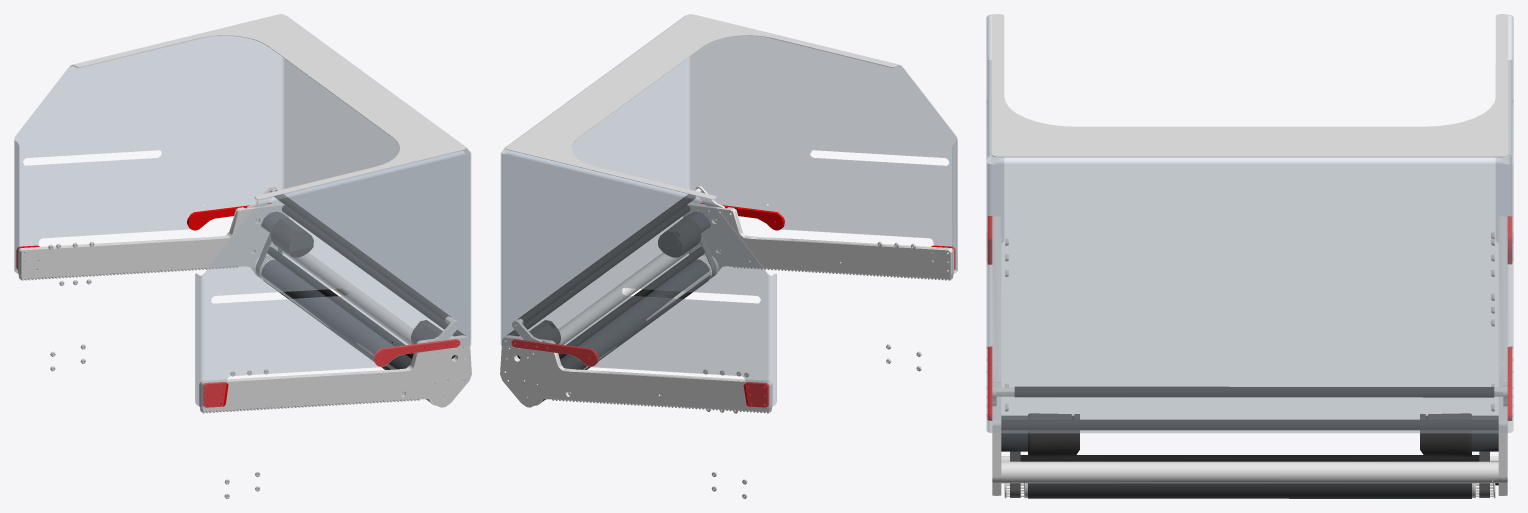
Rendered from 1114-slide.glb.
3 views of the same model, side by side, from view 1: azimuth 30°, elevation 25°; view 2: azimuth 150°, elevation 25°; view 3: azimuth 270°, elevation 25° (orthographic). The views are drawn at different scales.
Parts seen in each view (by area): view 1: S26-IN-P322, S26-IN-P317, S26-IN-P307, Part 50, S26-IN-P323, 12t Aluminum Pulley (HTD 5mm, 15mm Wide, 8mm SplineXS Bore); view 2: S26-IN-P322, S26-IN-P317, S26-IN-P307, Part 50, S26-IN-P323, 12t Aluminum Pulley (HTD 5mm, 15mm Wide, 8mm SplineXS Bore); view 3: S26-IN-P322, S26-IN-P317, S26-IN-P307, Part 50, 12t Aluminum Pulley (HTD 5mm, 15mm Wide, 8mm SplineXS Bore), S26-IN-P323, Part 49.
Boxes of the visible parts, x1,y1,x2,y2 form: S26-IN-P322: (14,15,471,407); S26-IN-P317: (18,14,471,413); S26-IN-P307: (267,190,465,358); Part 50: (261,211,411,369); S26-IN-P323: (16,203,460,407); 12t Aluminum Pulley (HTD 5mm, 15mm Wide, 8mm SplineXS Bore): (270,217,454,359); S26-IN-P322: (500,15,957,407); S26-IN-P317: (500,14,953,413); S26-IN-P307: (507,194,704,358); Part 50: (560,211,710,369); S26-IN-P323: (511,202,955,407); 12t Aluminum Pulley (HTD 5mm, 15mm Wide, 8mm SplineXS Bore): (517,217,701,358); S26-IN-P322: (986,14,1513,433); S26-IN-P317: (992,14,1507,495); S26-IN-P307: (1001,386,1498,485); Part 50: (1001,415,1498,498); 12t Aluminum Pulley (HTD 5mm, 15mm Wide, 8mm SplineXS Bore): (1028,413,1471,457); S26-IN-P323: (987,216,1512,420); Part 49: (1010,451,1489,497).
Bounding box in the file's own units: 0.6286 × 0.6526 × 0.7533.
